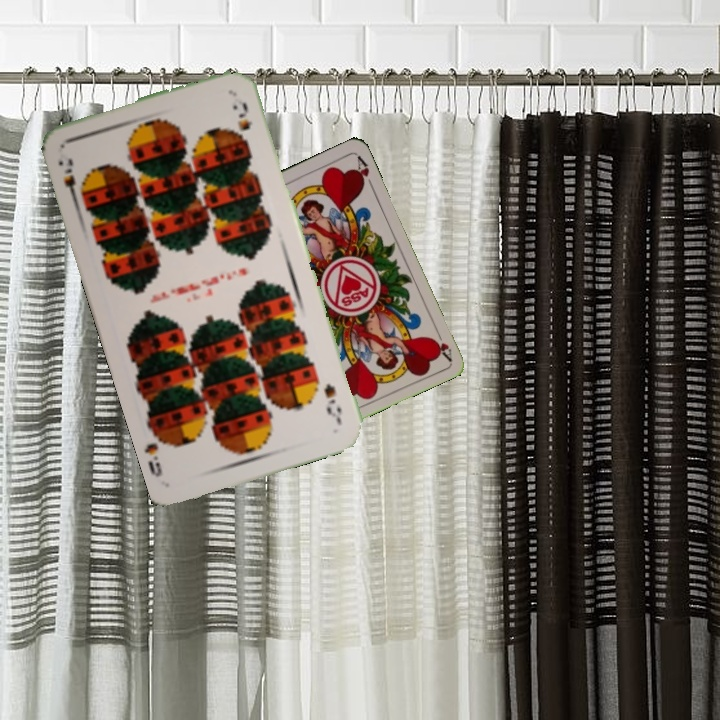HA: (429, 323, 455, 362)
S9: (60, 153, 88, 205), (319, 379, 345, 426)
